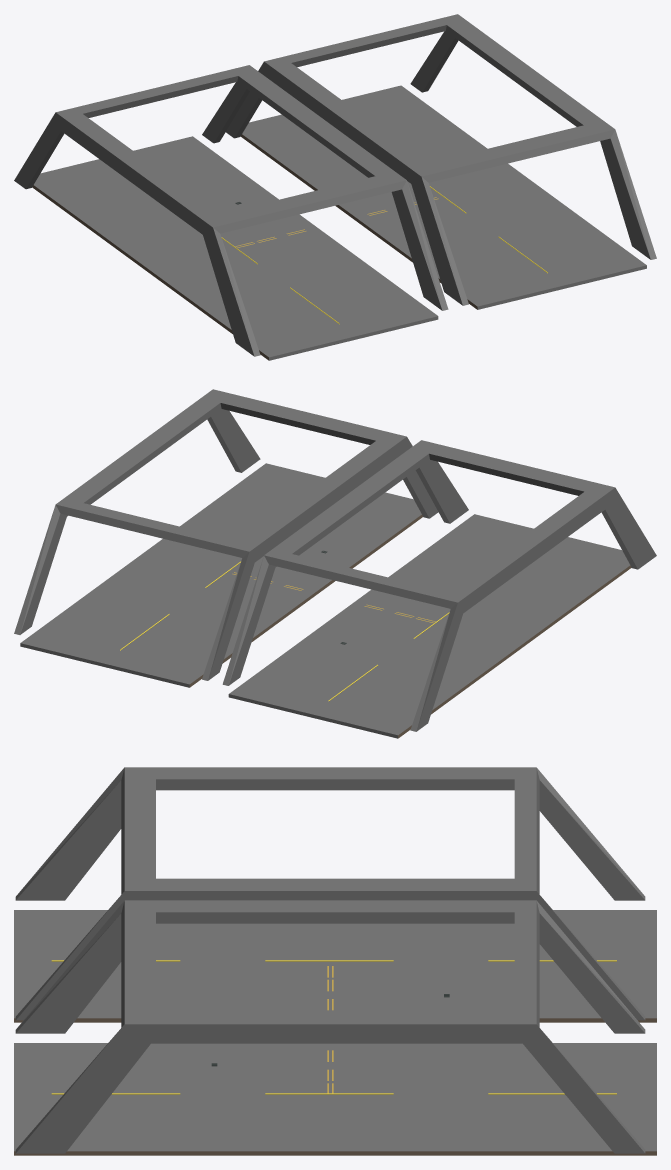
The picture shows the model from 3 angles, top to bottom: view 1: azimuth 30°, elevation 25°; view 2: azimuth 150°, elevation 25°; view 3: azimuth 270°, elevation 25°; orthographic projection. The views are drawn at different scales.
Parts seen in each view (by area): view 1: RD106 | archived geometry; view 2: RD106 | archived geometry; view 3: RD106 | archived geometry, RD106 | line, light and sprite surfaces.
Part boxes in pixels (x1,y1,x2,y2): RD106 | archived geometry: (14, 14, 656, 360); RD106 | archived geometry: (14, 389, 656, 738); RD106 | archived geometry: (14, 767, 656, 1155); RD106 | line, light and sprite surfaces: (51, 960, 616, 1094).
Size of the model in its own units: 30.89 by 7.76 by 32.66.
